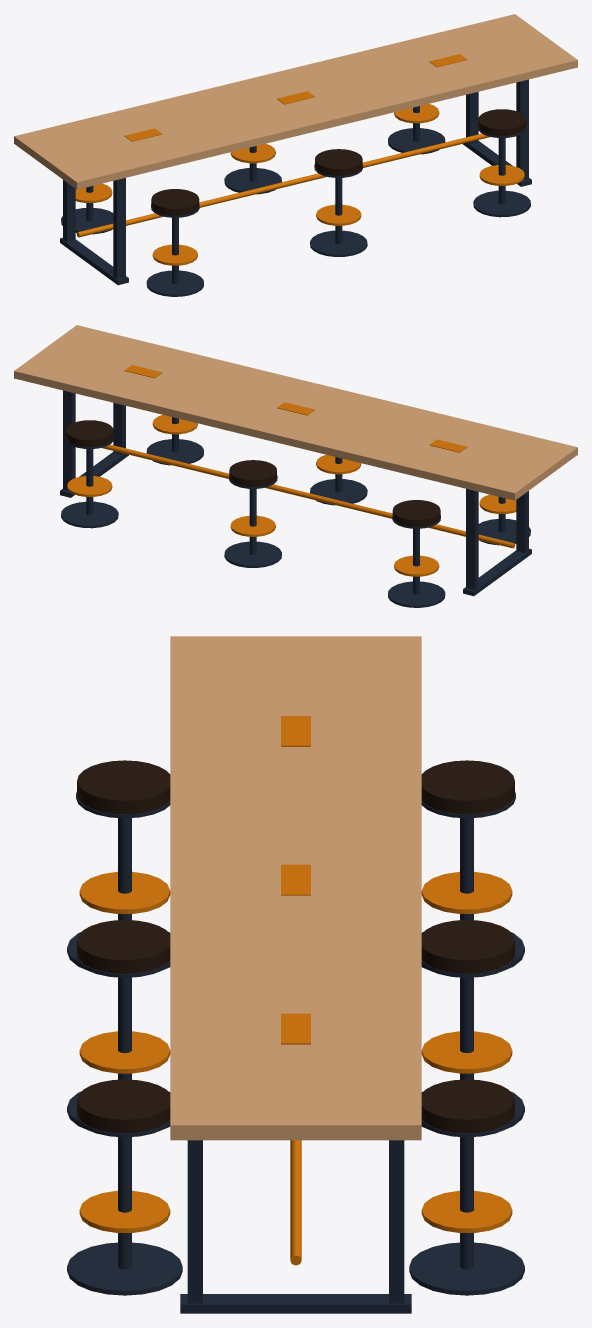
File: ShiftSync_Communal_Table.glb
The picture shows the model from 3 angles, top to bottom: view 1: azimuth 30°, elevation 25°; view 2: azimuth 150°, elevation 25°; view 3: azimuth 270°, elevation 25°; orthographic projection. The views are drawn at different scales.
Visible parts, largest first — view 1: Communal_Oak_Top, Stool_Base_Disc (×6), Stool_Foot_Ring (×6), Stool_Seat_Cushion (×3), Communal_Foot_Stretcher, Stool_Column (×3), Trestle_Leg_R_0, Trestle_Leg_R_1, Trestle_Foot_0, Trestle_Leg_L_0, Trestle_Leg_L_1, Trestle_Foot_1; view 2: Communal_Oak_Top, Stool_Base_Disc (×6), Stool_Foot_Ring (×6), Stool_Seat_Cushion (×3), Communal_Foot_Stretcher, Trestle_Leg_L_0, Stool_Column (×3), Trestle_Leg_L_1, Trestle_Foot_0, Trestle_Leg_R_0, Trestle_Leg_R_1, Trestle_Foot_1; view 3: Communal_Oak_Top, Stool_Seat_Cushion (×6), Stool_Foot_Ring (×6), Stool_Base_Disc (×2), Stool_Column (×6), Trestle_Foot_1, Trestle_Leg_L_1, Trestle_Leg_R_1, Communal_Foot_Stretcher, Communal_Cable_Lid_1, Communal_Cable_Lid_2, Communal_Cable_Lid_0.
Part boxes in pixels (x1,y1,x2,y2): Communal_Oak_Top: (14, 14, 577, 189); Stool_Base_Disc (×6): (61, 128, 530, 296); Stool_Foot_Ring (×6): (75, 104, 524, 265); Stool_Seat_Cushion (×3): (151, 109, 525, 215); Communal_Foot_Stretcher: (76, 133, 490, 237); Stool_Column (×3): (172, 138, 505, 283); Trestle_Leg_R_0: (113, 178, 125, 278); Trestle_Leg_R_1: (516, 79, 528, 179); Trestle_Foot_0: (60, 237, 128, 285); Trestle_Leg_L_0: (63, 180, 75, 241); Trestle_Leg_L_1: (466, 92, 478, 143); Trestle_Foot_1: (463, 141, 531, 186); Communal_Oak_Top: (14, 325, 577, 500); Stool_Base_Disc (×6): (61, 439, 530, 607); Stool_Foot_Ring (×6): (67, 415, 516, 576); Stool_Seat_Cushion (×3): (66, 420, 440, 526); Communal_Foot_Stretcher: (101, 444, 515, 548); Trestle_Leg_L_0: (466, 489, 478, 589); Stool_Column (×3): (86, 449, 419, 594); Trestle_Leg_L_1: (63, 390, 75, 490); Trestle_Foot_0: (463, 548, 531, 596); Trestle_Leg_R_0: (516, 491, 528, 552); Trestle_Leg_R_1: (113, 403, 125, 454); Trestle_Foot_1: (60, 452, 128, 497); Communal_Oak_Top: (170, 636, 421, 1140); Stool_Seat_Cushion (×6): (77, 760, 514, 1133); Stool_Foot_Ring (×6): (79, 871, 512, 1232); Stool_Base_Disc (×2): (67, 1242, 524, 1295); Stool_Column (×6): (118, 818, 473, 1269); Trestle_Foot_1: (180, 1294, 411, 1313); Trestle_Leg_L_1: (389, 1140, 404, 1303); Trestle_Leg_R_1: (187, 1140, 202, 1303); Communal_Foot_Stretcher: (290, 1140, 301, 1265); Communal_Cable_Lid_1: (281, 864, 310, 895); Communal_Cable_Lid_2: (281, 1013, 310, 1044); Communal_Cable_Lid_0: (281, 716, 310, 746).
Size of the model in its own units: 4.6 by 1.02 by 1.82.
